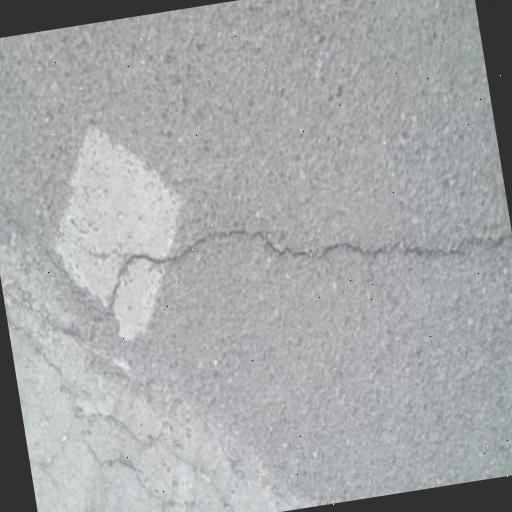spalling: (77, 212, 504, 355)
